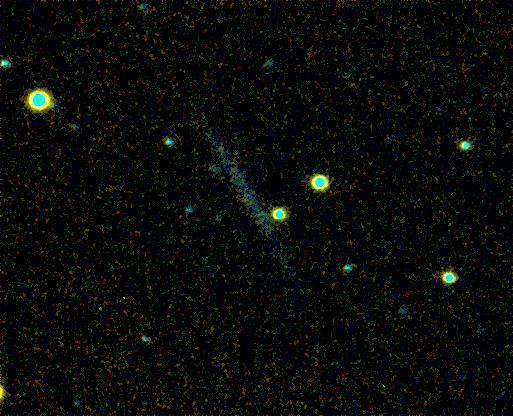star: (204, 136, 234, 166)
